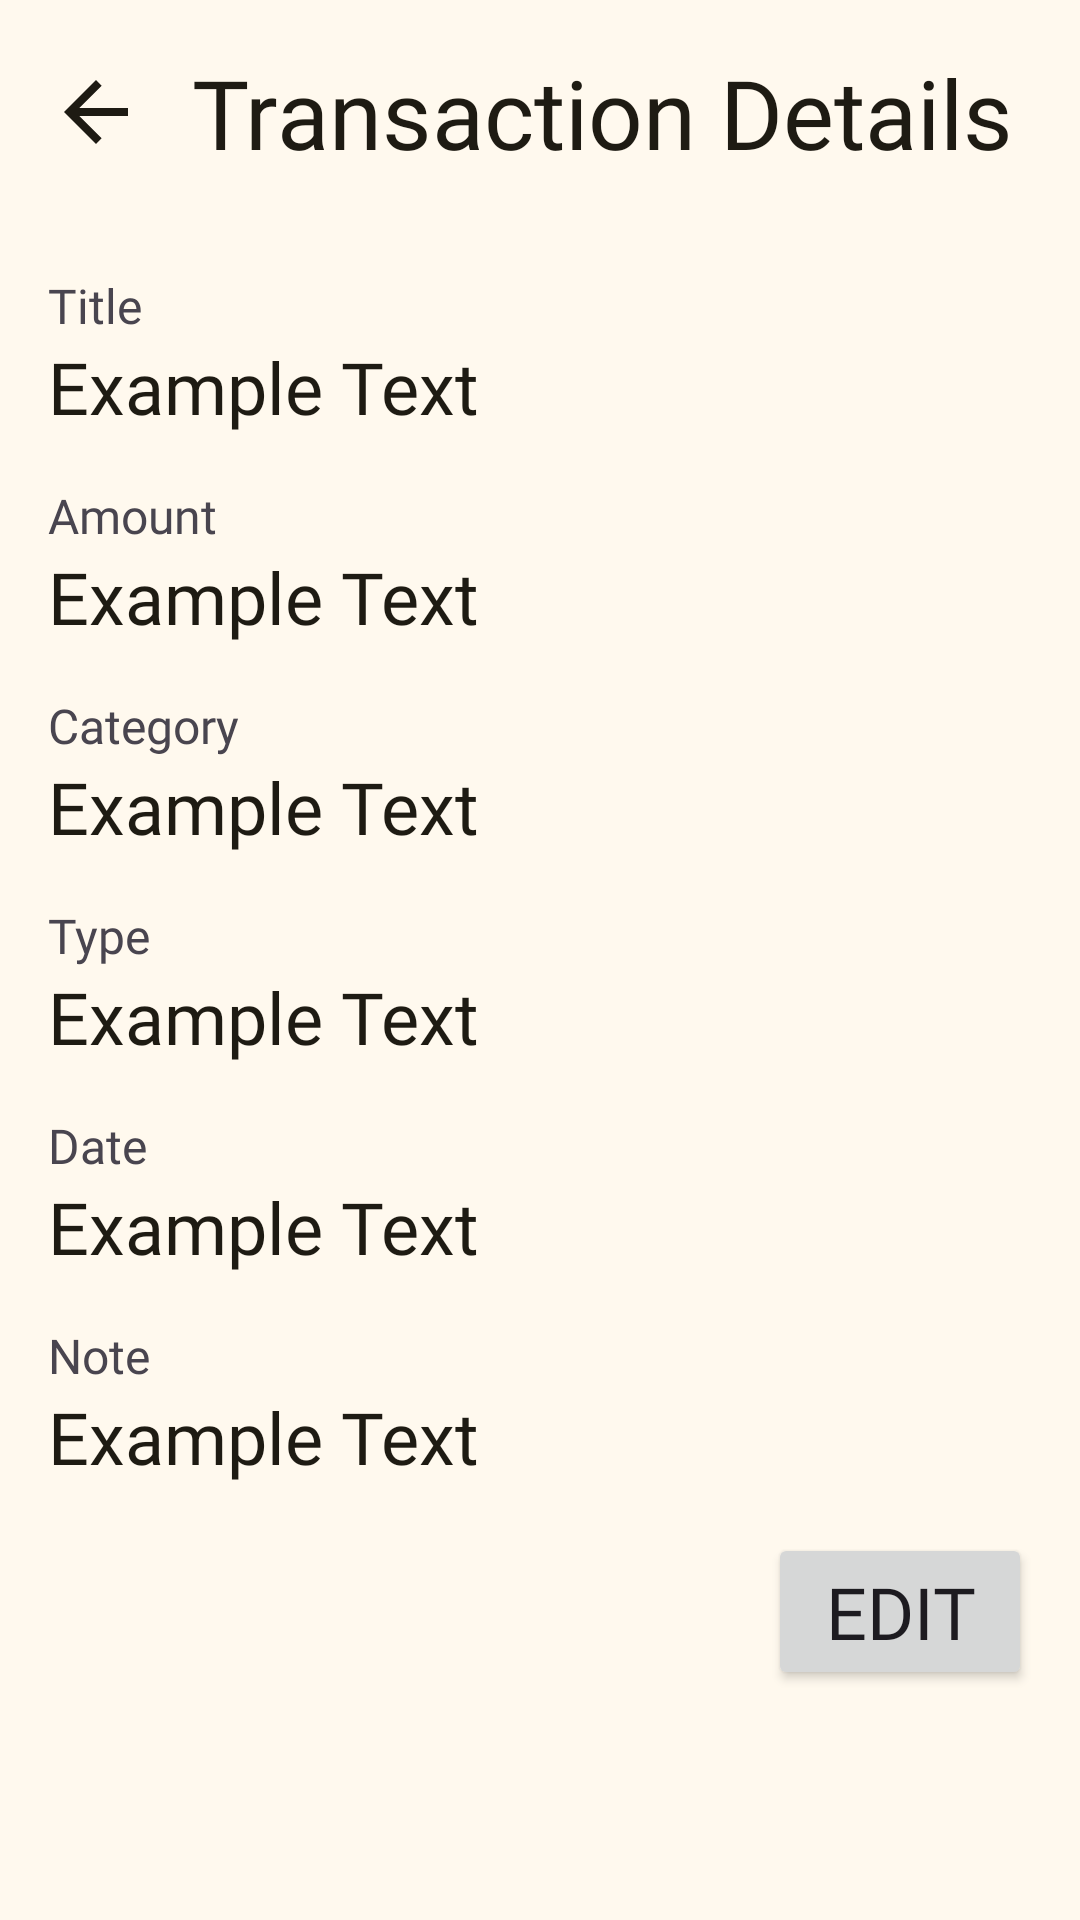

Icons on this 1080*1920 Android screen, each with the point to tap as (x,y):
arrow back: (96,112)
